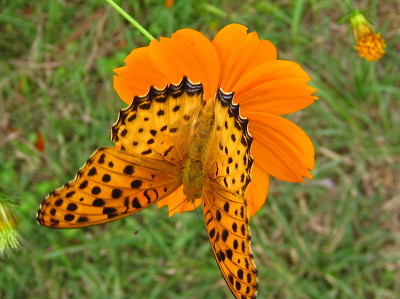Argyreus hyperbius: (34, 79, 258, 297)
butterfly: (36, 81, 260, 299)
